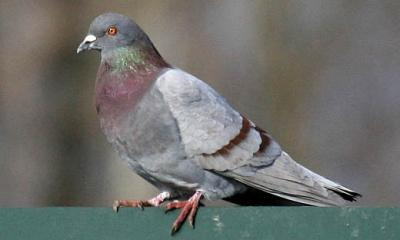Flying Rat: (73, 13, 355, 224)
